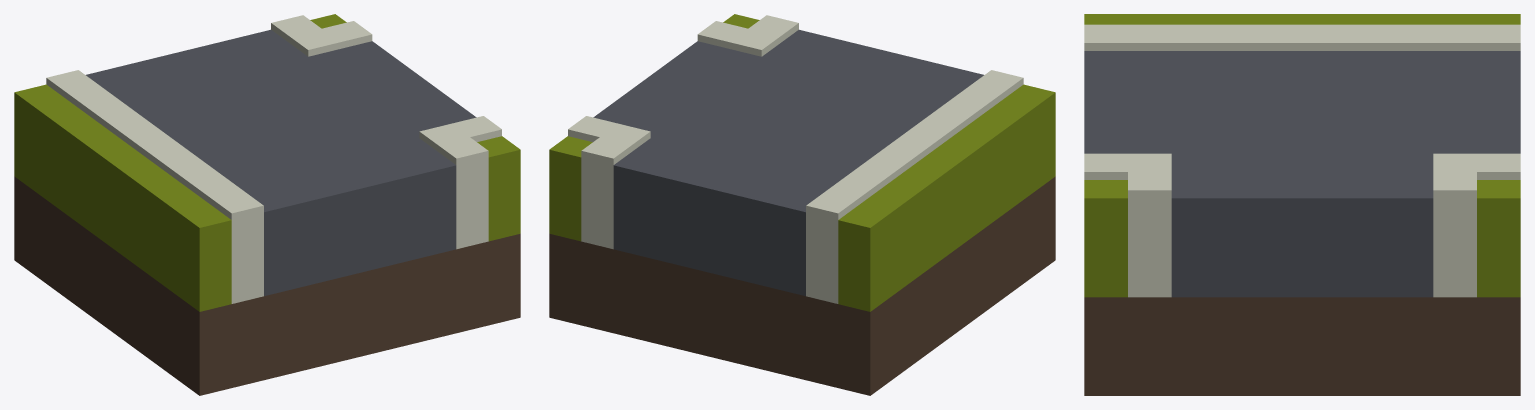
Rendered from grass-tintersection.dae.
3 views of the same model, side by side, from view 1: azimuth 30°, elevation 25°; view 2: azimuth 150°, elevation 25°; view 3: azimuth 270°, elevation 25° (orthographic). The views are drawn at different scales.
Parts seen in each view (by area): view 1: street.1; view 2: street.1; view 3: street.1.
Part boxes in pixels (bbox=[...]): street.1: bbox=[14, 14, 520, 395]; street.1: bbox=[549, 14, 1055, 395]; street.1: bbox=[1084, 14, 1520, 395].
Size of the model in its own units: 500 by 260 by 500.
